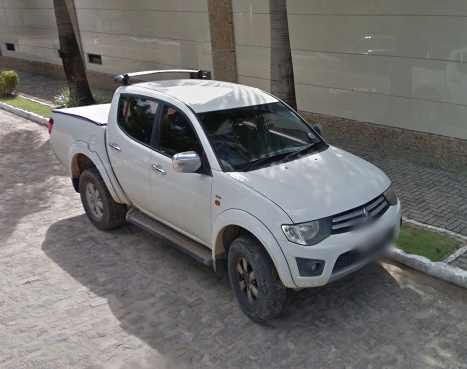car: (44, 67, 407, 326)
